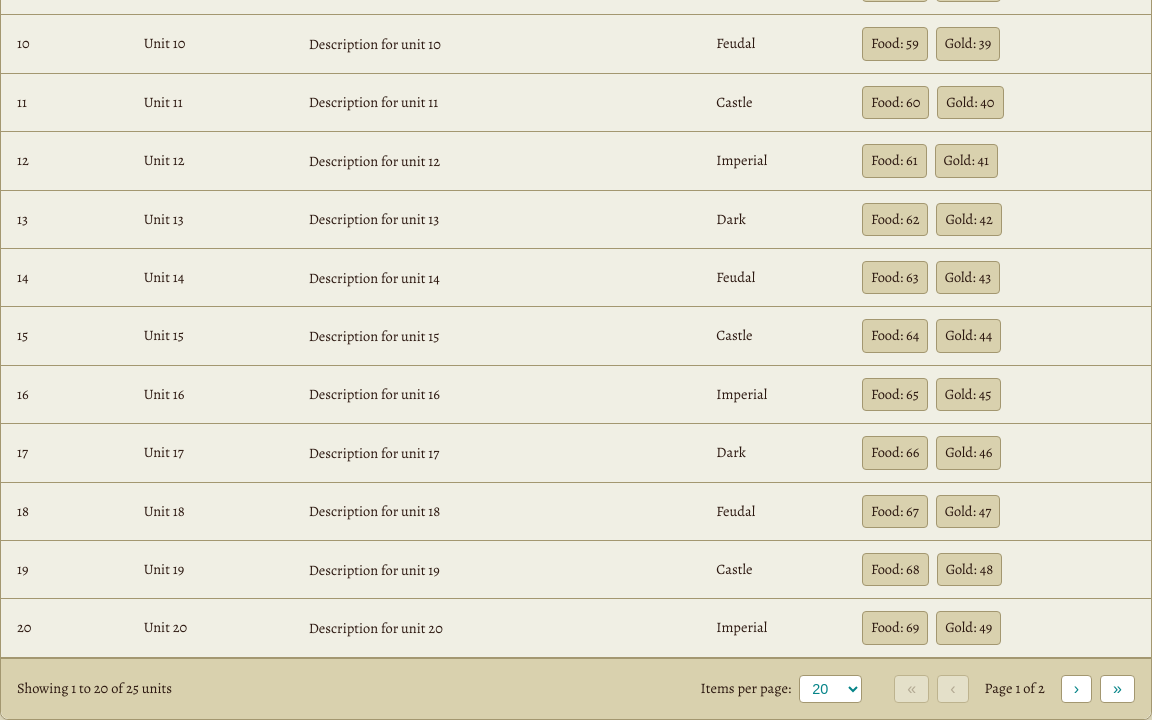
Test: UnitsTable Component › should handle pagination locally
The width and height of the screenshot is (1152, 720).
(page scrolled)
Expected: the text "Showing 1 to 20 of 25 units" is shown, [17,677,172,700]
Click the button named "go to next page" at [1076, 689], box [1061,675,1092,703]
(page scrolled)
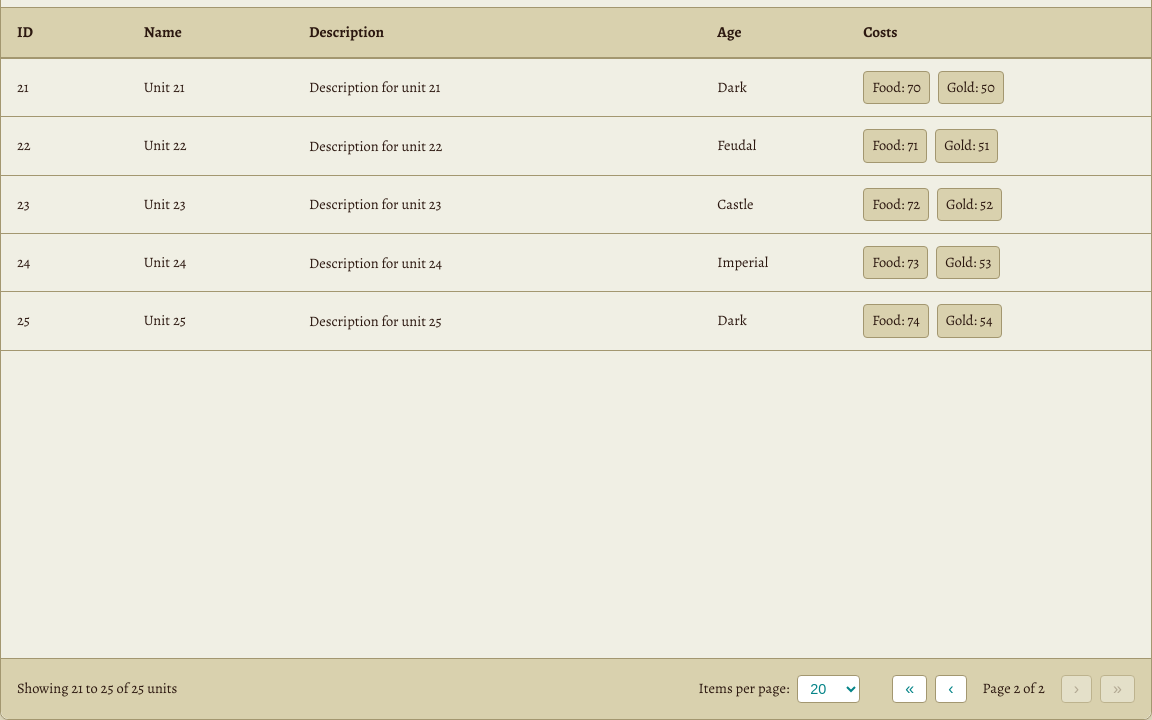
Expected: the text "Page 2 of 2" is shown, [983,677,1045,701]
